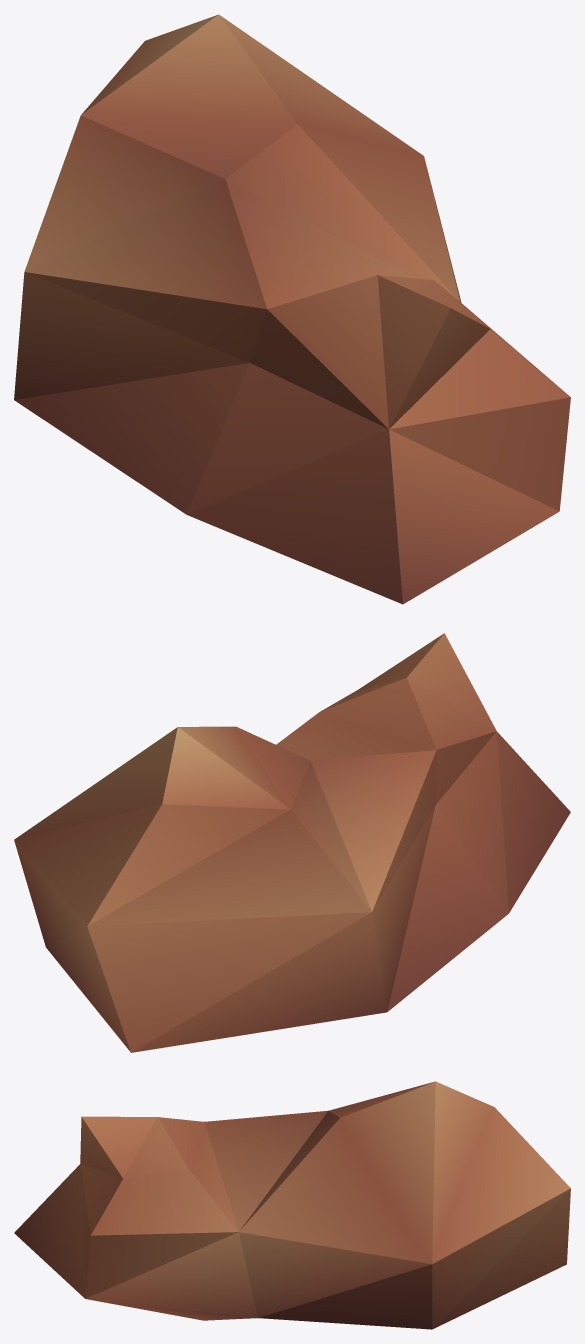
The model's file is Mixed_Rock_03.fbx.
3 views of the same model, one above another, from view 1: azimuth 30°, elevation 25°; view 2: azimuth 150°, elevation 25°; view 3: azimuth 270°, elevation 25° (orthographic). The views are drawn at different scales.
Parts seen in each view (by area): view 1: Rock_03.001; view 2: Rock_03.001; view 3: Rock_03.001.
Boxes of the visible parts, left/top/right/bottom form: Rock_03.001: left=14, top=14, right=570, bottom=604; Rock_03.001: left=14, top=633, right=570, bottom=1052; Rock_03.001: left=14, top=1081, right=570, bottom=1329.
Size of the model in its own units: 219 by 181 by 384.
